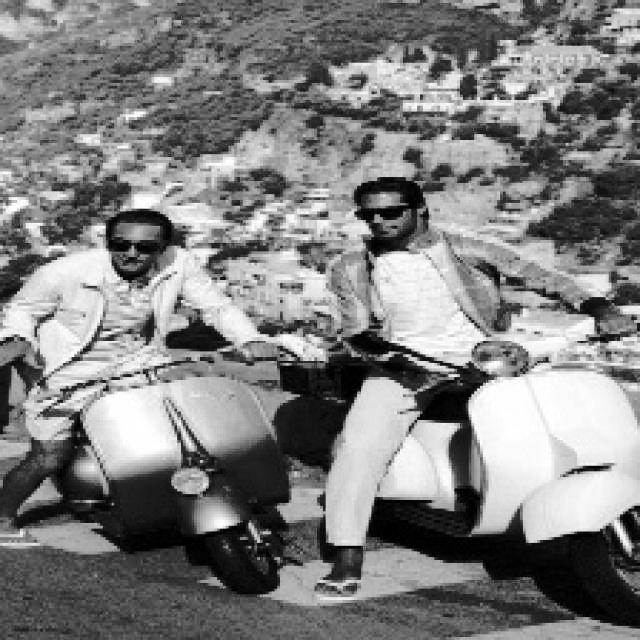Bike: (431, 341, 639, 619), (65, 364, 302, 600)
